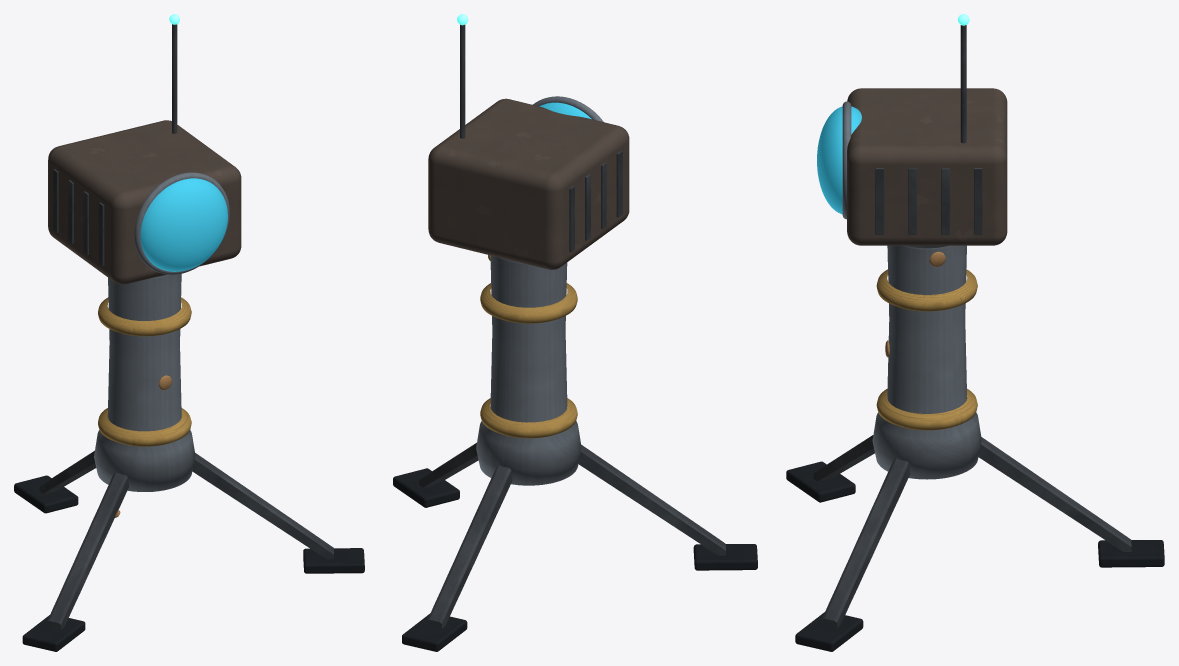
File: sentry-node.glb
3 renders of one model, left to right at view 1: azimuth 30°, elevation 25°; view 2: azimuth 150°, elevation 25°; view 3: azimuth 270°, elevation 25°, orthographic. The views are drawn at different scales.
Parts seen in each view (by area): view 1: ceramic / ceramic composite panel, alloy / machined anodized alloy, darksteel / oil-blackened fittings, crystal / faceted crystal, polymer / stippled polymer, brass / polished brass furniture; view 2: ceramic / ceramic composite panel, alloy / machined anodized alloy, darksteel / oil-blackened fittings, polymer / stippled polymer, brass / polished brass furniture; view 3: ceramic / ceramic composite panel, alloy / machined anodized alloy, darksteel / oil-blackened fittings, polymer / stippled polymer, brass / polished brass furniture, crystal / faceted crystal.
Part boxes in pixels (x1,y1,x2,y2): ceramic / ceramic composite panel: [48, 120, 241, 284]; alloy / machined anodized alloy: [94, 172, 229, 491]; darksteel / oil-blackened fittings: [39, 24, 334, 629]; crystal / faceted crystal: [140, 178, 227, 271]; polymer / stippled polymer: [14, 475, 364, 651]; brass / polished brass furniture: [98, 297, 191, 446]; ceramic / ceramic composite panel: [428, 98, 629, 269]; alloy / machined anodized alloy: [476, 96, 603, 485]; darksteel / oil-blackened fittings: [419, 24, 725, 628]; polymer / stippled polymer: [393, 468, 757, 651]; brass / polished brass furniture: [480, 283, 577, 438]; ceramic / ceramic composite panel: [847, 88, 1007, 245]; alloy / machined anodized alloy: [842, 101, 981, 479]; darksteel / oil-blackened fittings: [813, 25, 1131, 627]; polymer / stippled polymer: [786, 461, 1164, 651]; brass / polished brass furniture: [876, 269, 977, 430]; crystal / faceted crystal: [817, 106, 861, 214].
Bounding box in the file's own units: 0.5898 × 0.864 × 0.5187.
Materials: 8 (5 with a texture image).
